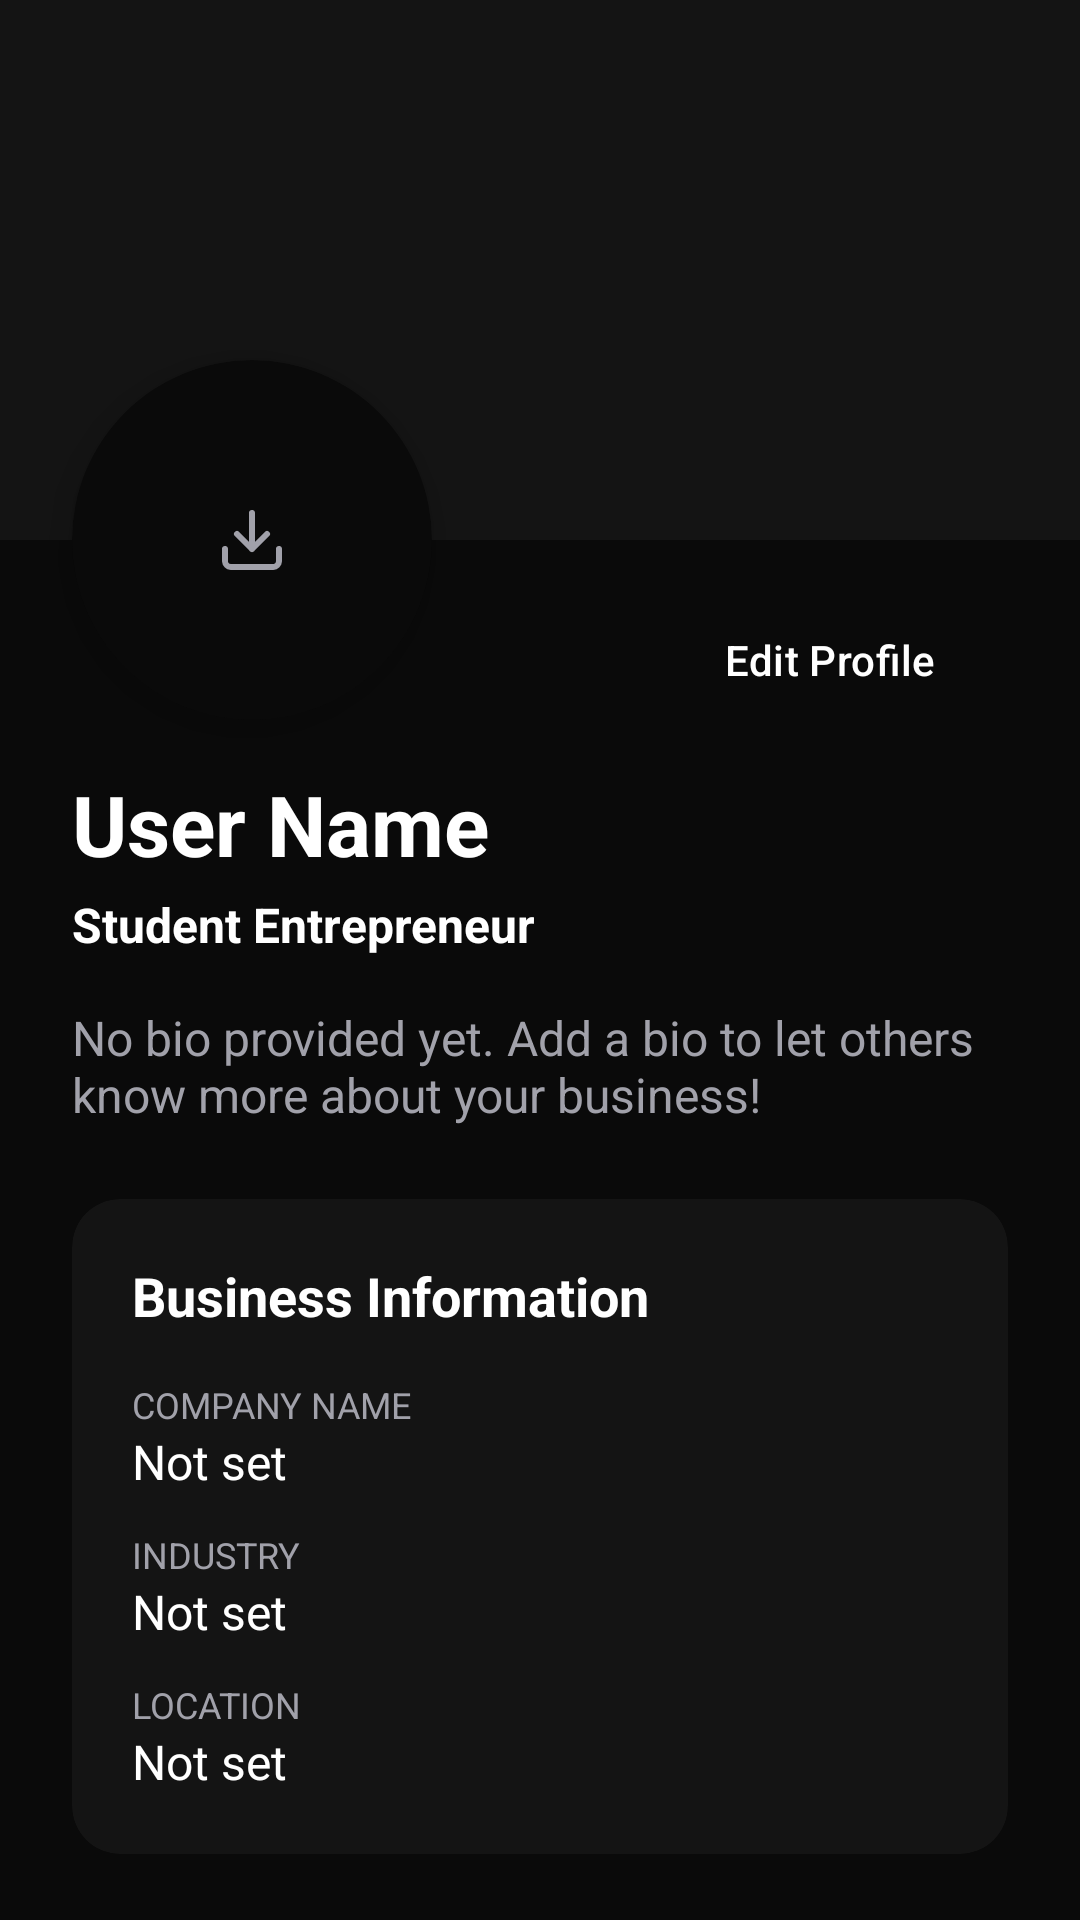

Icons on this 1080x1920 Android screen, each with its box as {"left": x1, "top": y1, "right": x2, "bottom": y2}:
download: {"left": 222, "top": 510, "right": 282, "bottom": 570}
